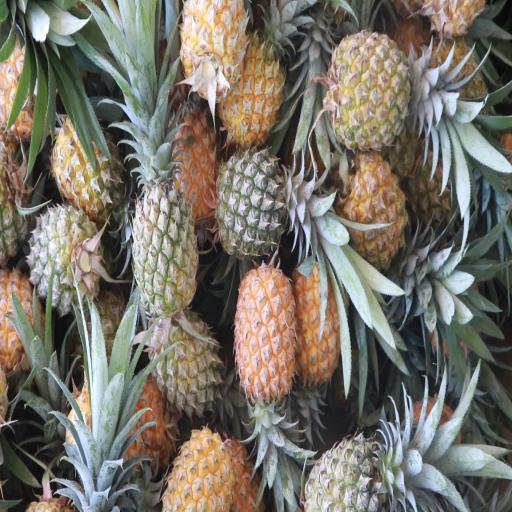------------------------------: (127, 146, 194, 311), (329, 30, 420, 150), (51, 108, 121, 214), (150, 313, 222, 416)
Pineapple - v8 v1: (235, 263, 301, 404), (344, 149, 413, 264), (160, 96, 222, 222), (223, 29, 286, 138), (298, 263, 352, 388), (180, 0, 247, 99), (166, 432, 236, 512)
